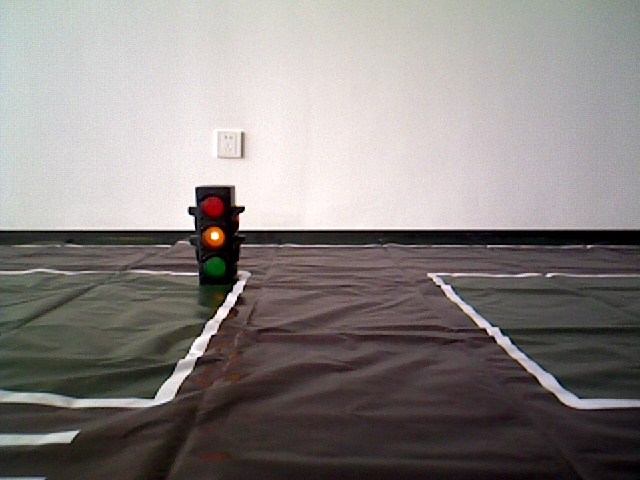yellow: (195, 189, 238, 284)
